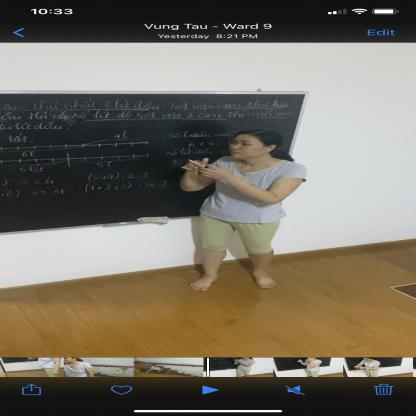cigarette: (187, 159, 201, 165)
person: (183, 129, 308, 292), (63, 358, 96, 378)
